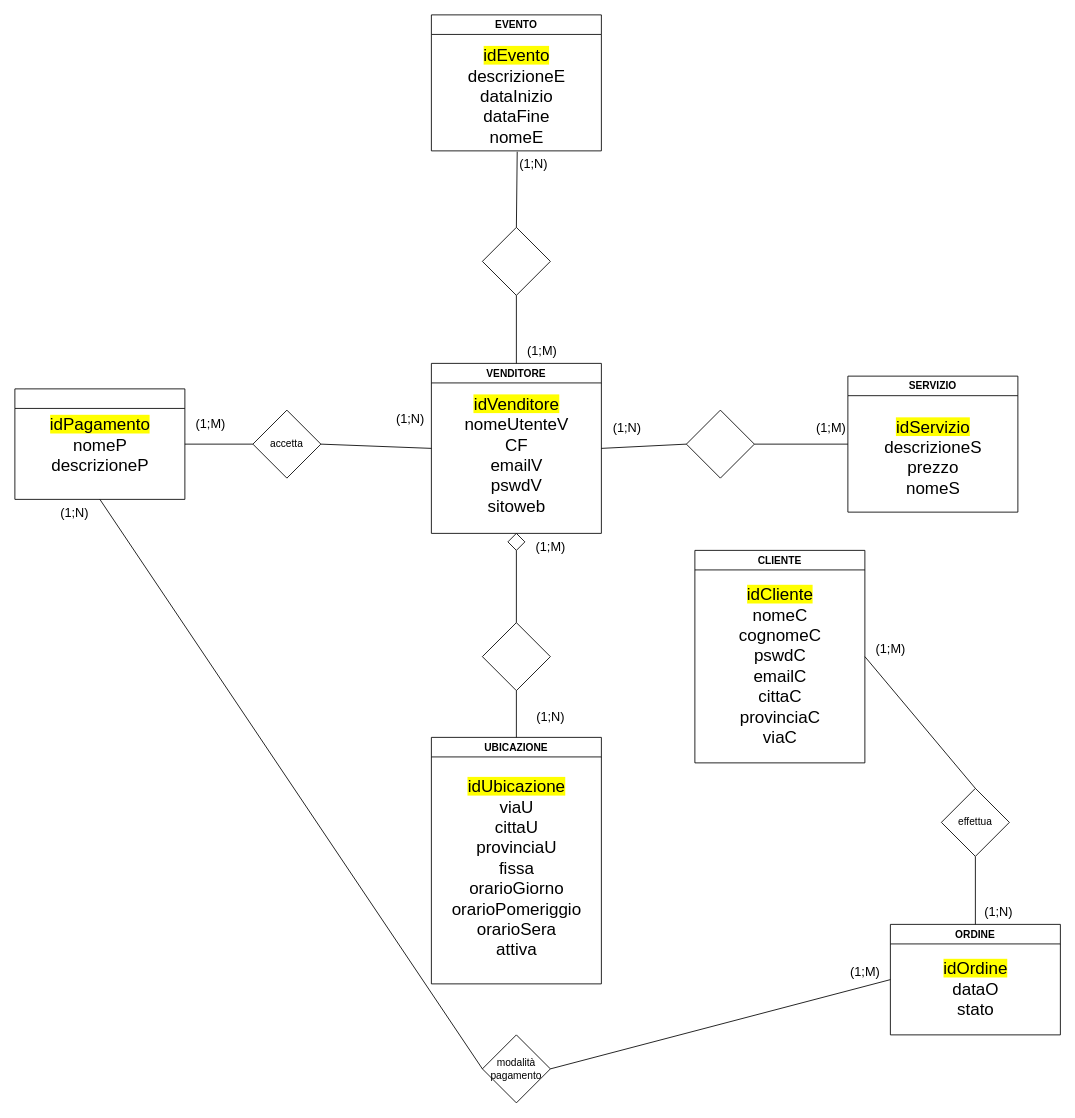
Some shapes in this 1075 by 1118 pixel diagram are drawn without their labels. The box of each missing label's shape, as (x1, y1, x2, y2) in pixels:
crea: (482, 227, 550, 295)
offre: (686, 409, 754, 478)
PAGAMETO: (14, 388, 185, 499)
si stabilisce in: (482, 622, 550, 691)
